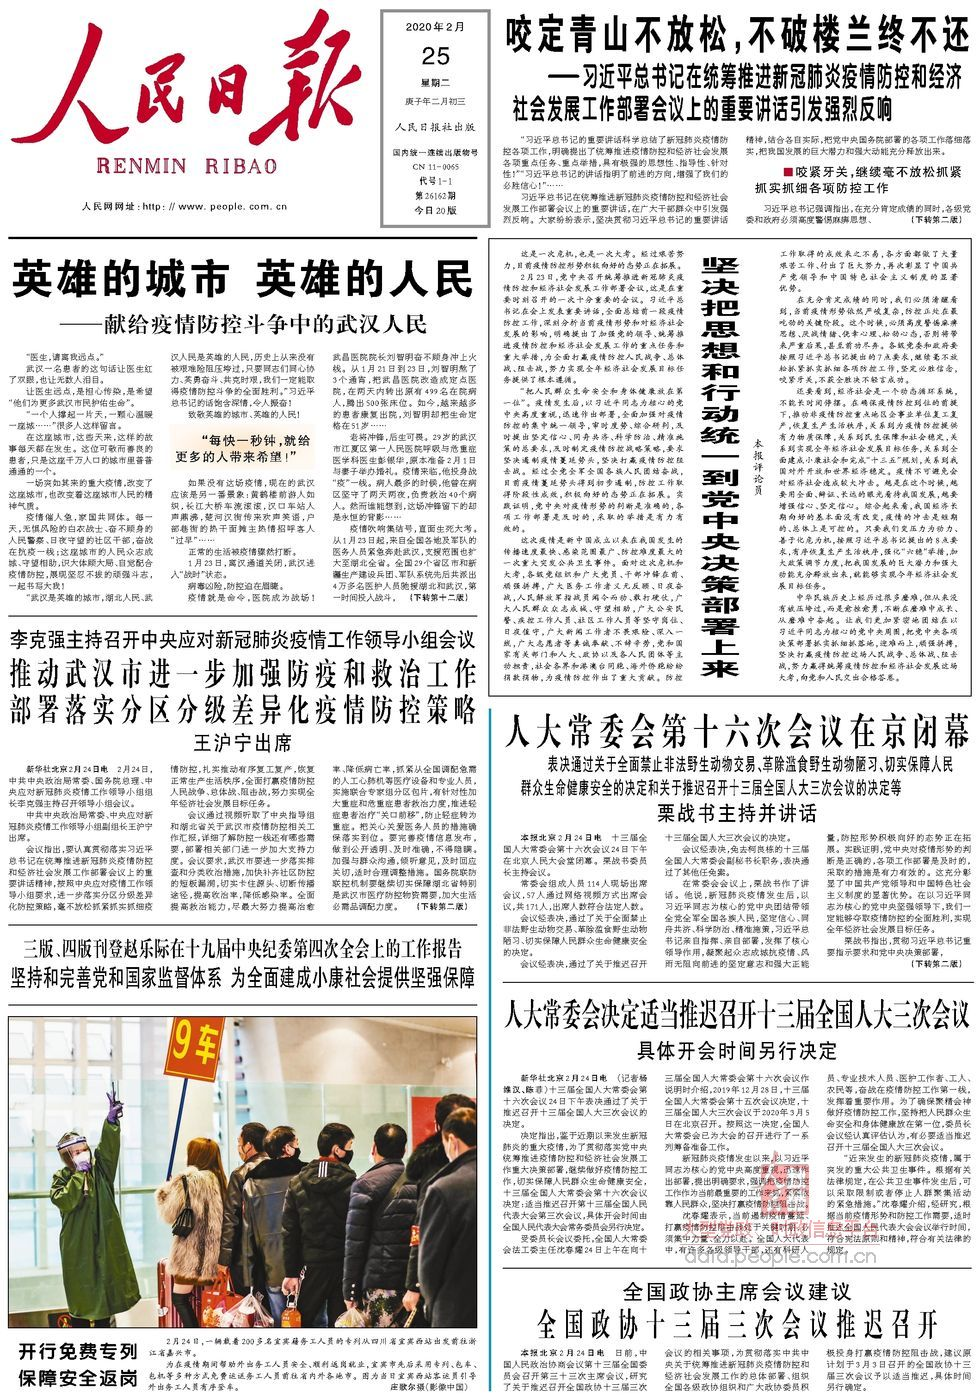pic: (3, 1010, 486, 1334)
